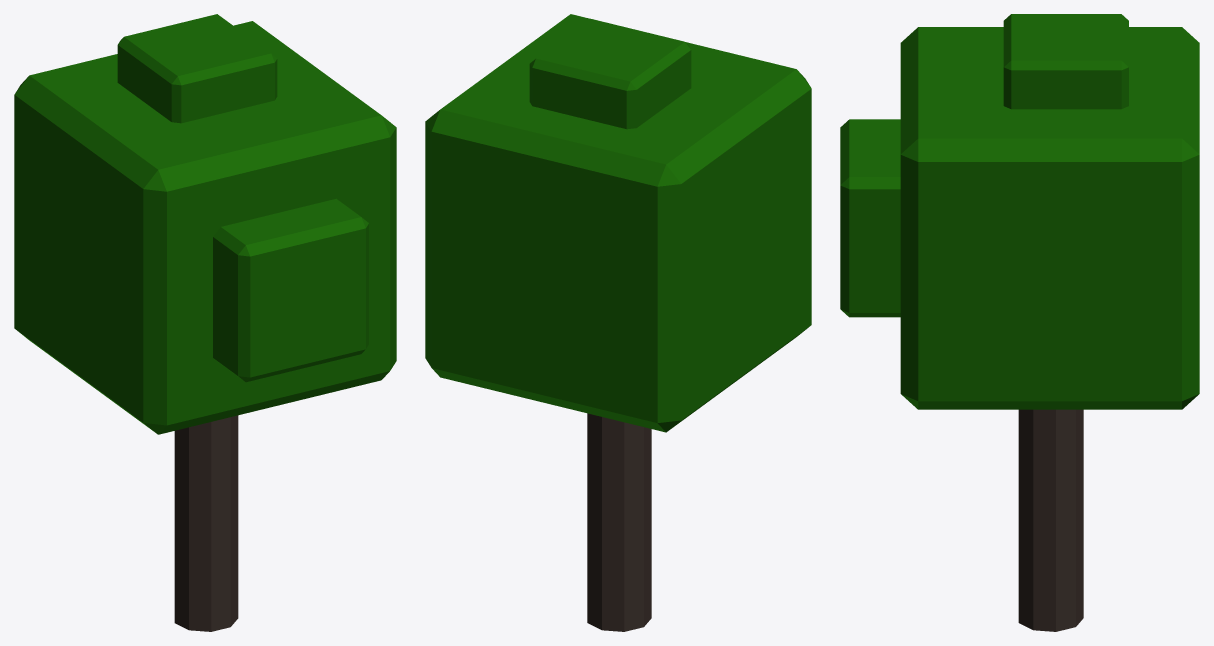
Rendered from Simple_Tree_2.fbx.
3 views of the same model, side by side, from view 1: azimuth 30°, elevation 25°; view 2: azimuth 150°, elevation 25°; view 3: azimuth 270°, elevation 25° (orthographic). The views are drawn at different scales.
Parts seen in each view (by area): view 1: Simple_Tree_2; view 2: Simple_Tree_2; view 3: Simple_Tree_2.
Part boxes in pixels (left/top/right/bottom): Simple_Tree_2: left=14, top=14, right=396, bottom=631; Simple_Tree_2: left=425, top=14, right=811, bottom=631; Simple_Tree_2: left=840, top=14, right=1199, bottom=631.
Bounding box in the file's own units: 242 × 518 × 291.
